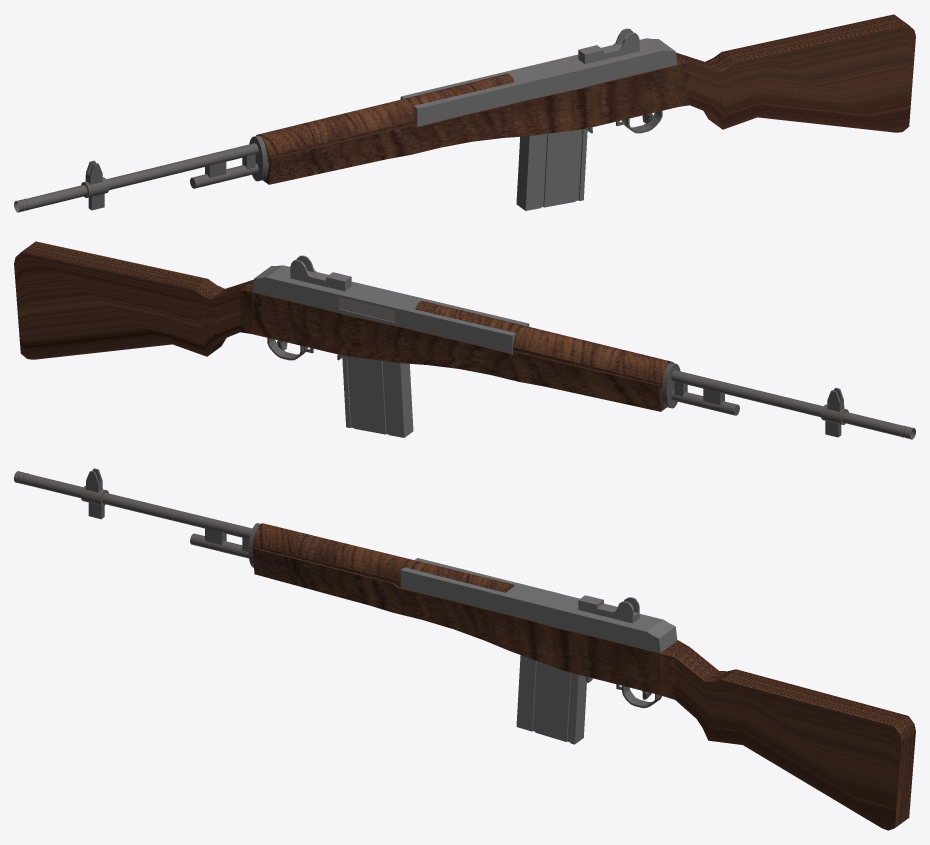
3 views of the same model, one above another, from view 1: azimuth 30°, elevation 25°; view 2: azimuth 150°, elevation 25°; view 3: azimuth 330°, elevation 25° (orthographic).
Visible parts, largest first — view 1: Body & Stock, Chamber Mechanism, Barrel Guard, Magazine, Barrel, Rear Iron Sights, Barrel Thing 2, Cylinder; view 2: Body & Stock, Chamber Mechanism, Barrel Guard, Magazine, Barrel, Rear Iron Sights, Bullet Ejector, Barrel Thing 2, Cylinder; view 3: Body & Stock, Chamber Mechanism, Barrel Guard, Magazine, Barrel, Rear Iron Sights.
Part boxes in pixels (bbox=[...]): Body & Stock: bbox=[263, 14, 915, 184]; Chamber Mechanism: bbox=[400, 38, 677, 126]; Barrel Guard: bbox=[256, 73, 514, 162]; Magazine: bbox=[516, 128, 587, 210]; Barrel: bbox=[27, 143, 258, 209]; Rear Iron Sights: bbox=[578, 28, 639, 64]; Barrel Thing 2: bbox=[190, 163, 258, 188]; Cylinder: bbox=[249, 135, 268, 181]; Body & Stock: bbox=[14, 241, 666, 411]; Chamber Mechanism: bbox=[252, 265, 529, 353]; Barrel Guard: bbox=[415, 301, 673, 389]; Magazine: bbox=[342, 355, 413, 437]; Barrel: bbox=[671, 370, 902, 436]; Rear Iron Sights: bbox=[290, 255, 351, 291]; Bullet Ejector: bbox=[339, 297, 395, 322]; Barrel Thing 2: bbox=[671, 390, 739, 415]; Cylinder: bbox=[660, 362, 680, 408]; Body & Stock: bbox=[252, 547, 915, 830]; Chamber Mechanism: bbox=[400, 558, 677, 652]; Barrel Guard: bbox=[252, 523, 514, 592]; Magazine: bbox=[516, 655, 586, 744]; Barrel: bbox=[24, 474, 252, 538]; Rear Iron Sights: bbox=[578, 595, 639, 623].
Size of the model in its own units: 486 by 83.59 by 17.14.
